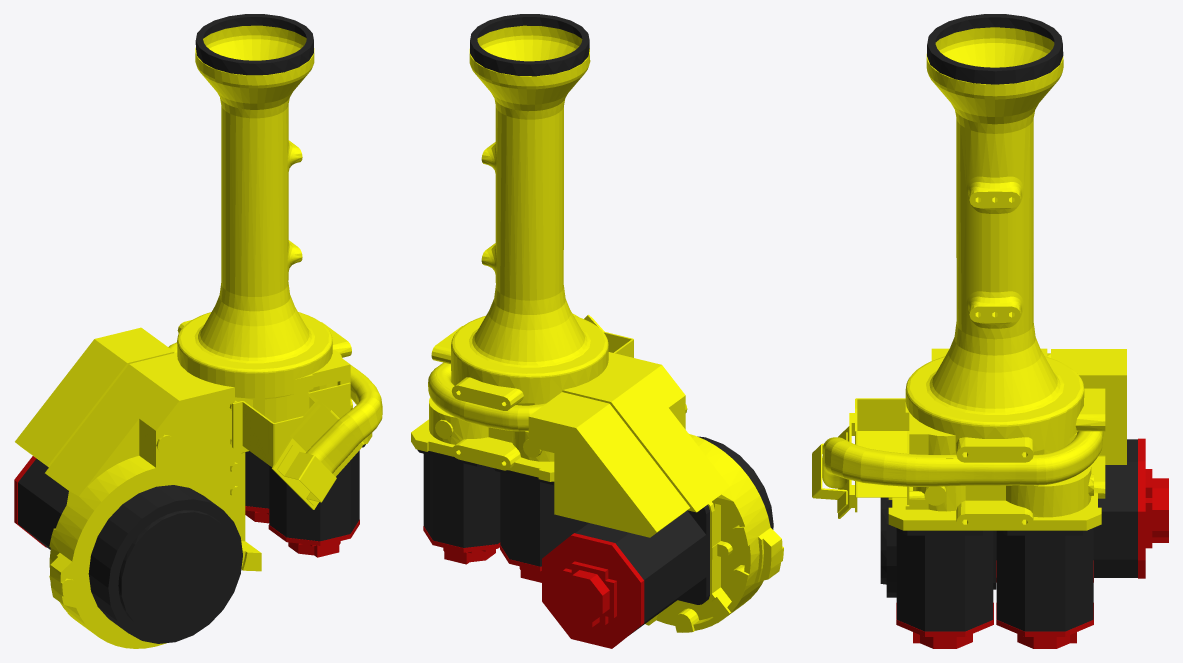
3 renders of one model, left to right at view 1: azimuth 30°, elevation 25°; view 2: azimuth 150°, elevation 25°; view 3: azimuth 270°, elevation 25°, orthographic. The views are drawn at different scales.
Parts seen in each view (by area): view 1: node; view 2: node; view 3: node.
Boxes of the visible parts, <box> form: node: <box>14,14,382,648</box>; node: <box>411,14,783,648</box>; node: <box>812,14,1168,648</box>.
Bounding box in the file's own units: 538 × 948 × 479.
